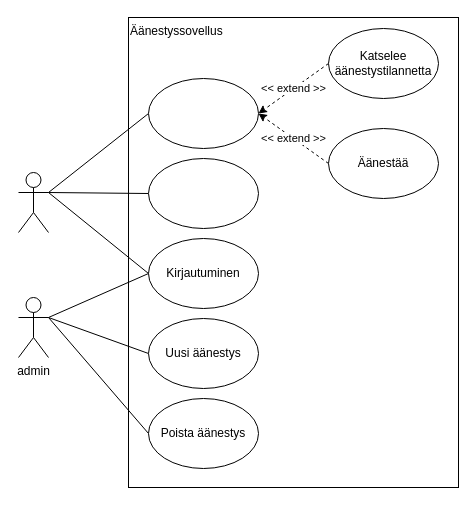
Image size: 476x505. Some labels were removed from this diagram. The box of each missing label's shape, as (x1, y1, x2, y2) in pixels:
Rekisteröityminen: (148, 158, 258, 228)
Selaa äänestyksiä: (148, 78, 258, 148)
user: (18, 172, 48, 232)
